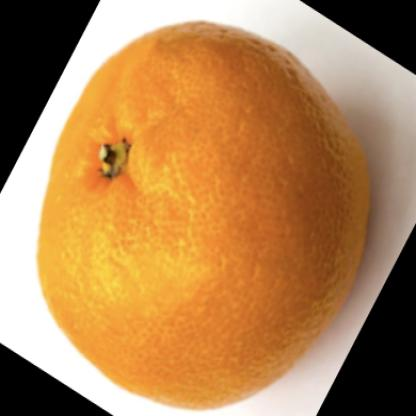fresh: (35, 23, 370, 412)
